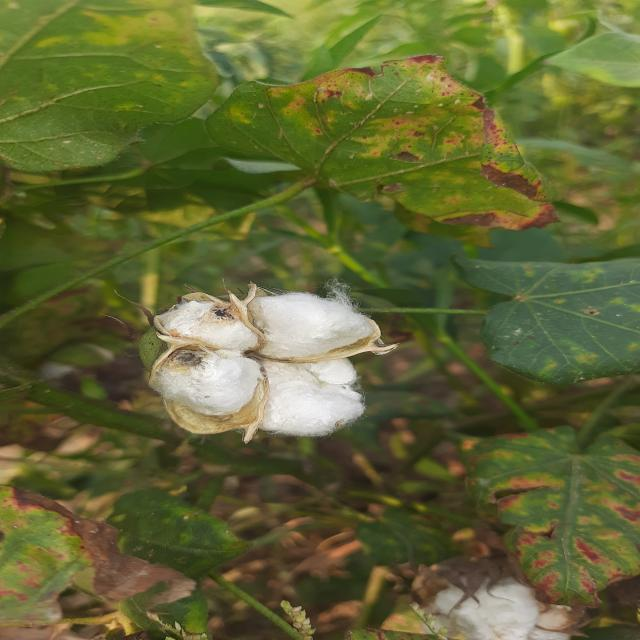Matured Cotton Boll: (139, 289, 387, 438), (416, 556, 580, 639)
